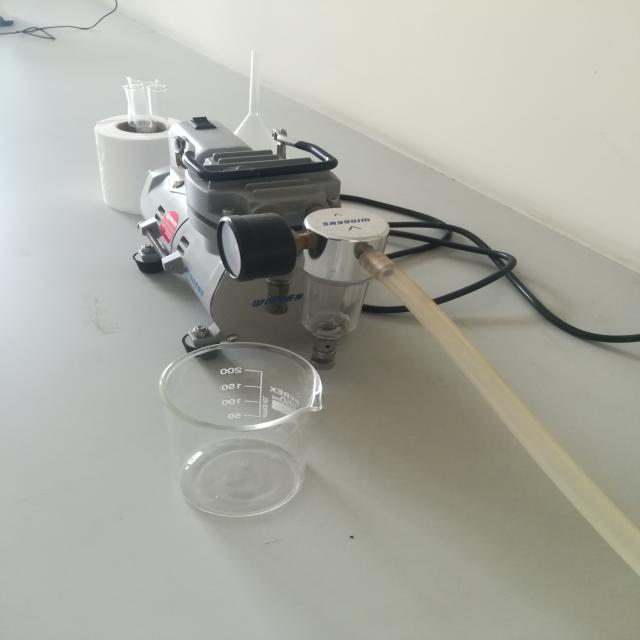Beaker: (114, 315, 360, 548)
